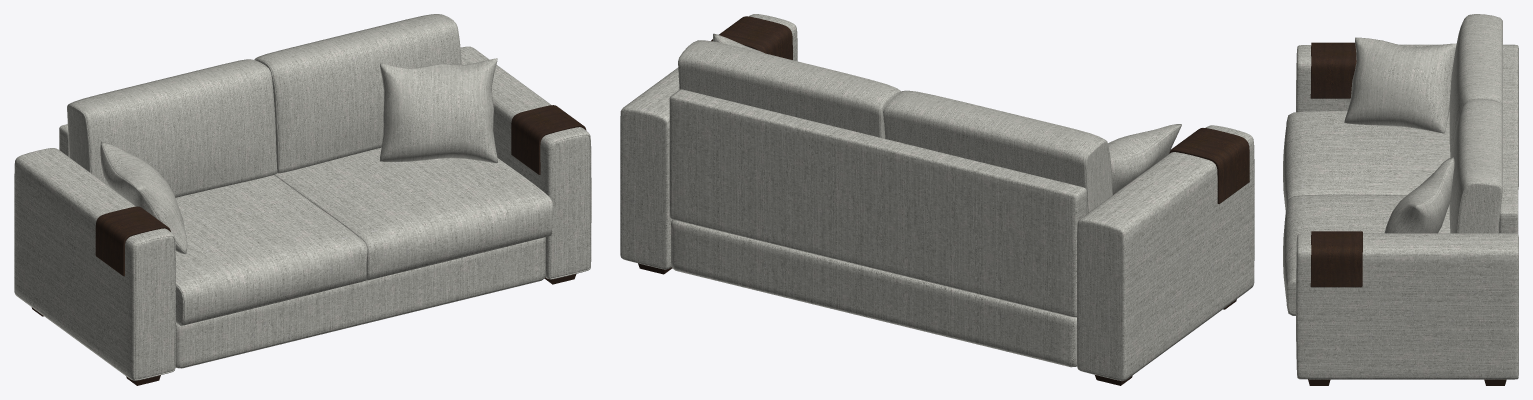
3 renders of one model, left to right at view 1: azimuth 30°, elevation 25°; view 2: azimuth 150°, elevation 25°; view 3: azimuth 270°, elevation 25°, orthographic. The views are drawn at different scales.
Parts seen in each view (by area): view 1: Pillow Big_Bottom, Pillow Big_Back, Sidewalls, Frame_bottom, pillow_01, Onlay_wood, pillow_02; view 2: Back cover, Sidewalls, Pillow Big_Back, Frame_bottom, Onlay_wood, pillow_02; view 3: Sidewalls, Pillow Big_Bottom, Pillow Big_Back, pillow_02, Onlay_wood, Back cover, pillow_01, Feet.
Boxes of the visible parts, bbox=[...] form: Pillow Big_Bottom: bbox=[175, 147, 552, 325]; Pillow Big_Back: bbox=[67, 14, 461, 197]; Sidewalls: bbox=[14, 46, 591, 380]; Frame_bottom: bbox=[175, 237, 545, 368]; pillow_01: bbox=[379, 58, 497, 162]; Onlay_wood: bbox=[95, 105, 586, 276]; pillow_02: bbox=[100, 142, 187, 253]; Back cover: bbox=[669, 89, 1086, 317]; Sidewalls: bbox=[620, 14, 1254, 380]; Pillow Big_Back: bbox=[678, 40, 1112, 213]; Frame_bottom: bbox=[671, 219, 1076, 367]; Onlay_wood: bbox=[711, 16, 1249, 204]; pillow_02: bbox=[1108, 124, 1181, 194]; Sidewalls: bbox=[1296, 44, 1518, 379]; Pillow Big_Bottom: bbox=[1283, 111, 1498, 315]; Pillow Big_Back: bbox=[1449, 14, 1502, 233]; pillow_02: bbox=[1344, 37, 1456, 133]; Onlay_wood: bbox=[1310, 42, 1362, 287]; Back cover: bbox=[1499, 45, 1518, 233]; pillow_01: bbox=[1384, 157, 1454, 233]; Feet: bbox=[1308, 379, 1506, 385].
Size of the model in its own units: 208 by 87.79 by 98.22.
Materials: 3 (3 with a texture image).
